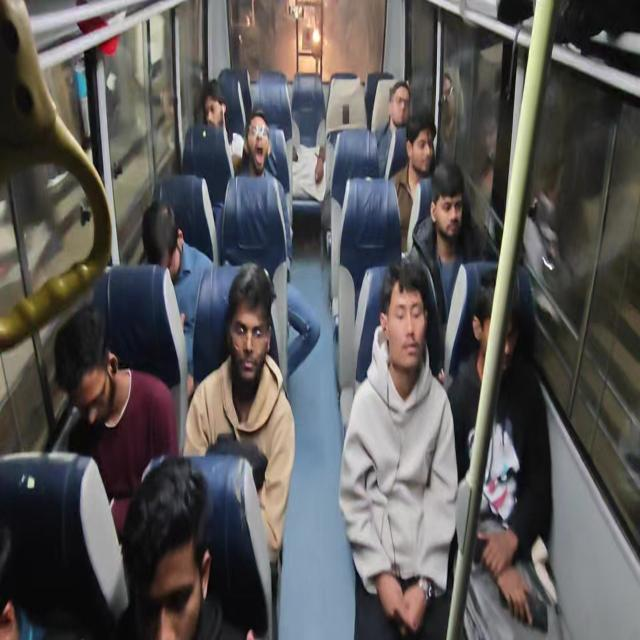person: (461, 288, 567, 454), (127, 459, 211, 640), (0, 490, 73, 640), (383, 283, 466, 410), (67, 306, 137, 449), (112, 230, 193, 302), (269, 129, 335, 217), (426, 150, 462, 226), (237, 276, 271, 356), (396, 109, 430, 184), (198, 89, 228, 150), (385, 79, 415, 130), (251, 111, 275, 169)
